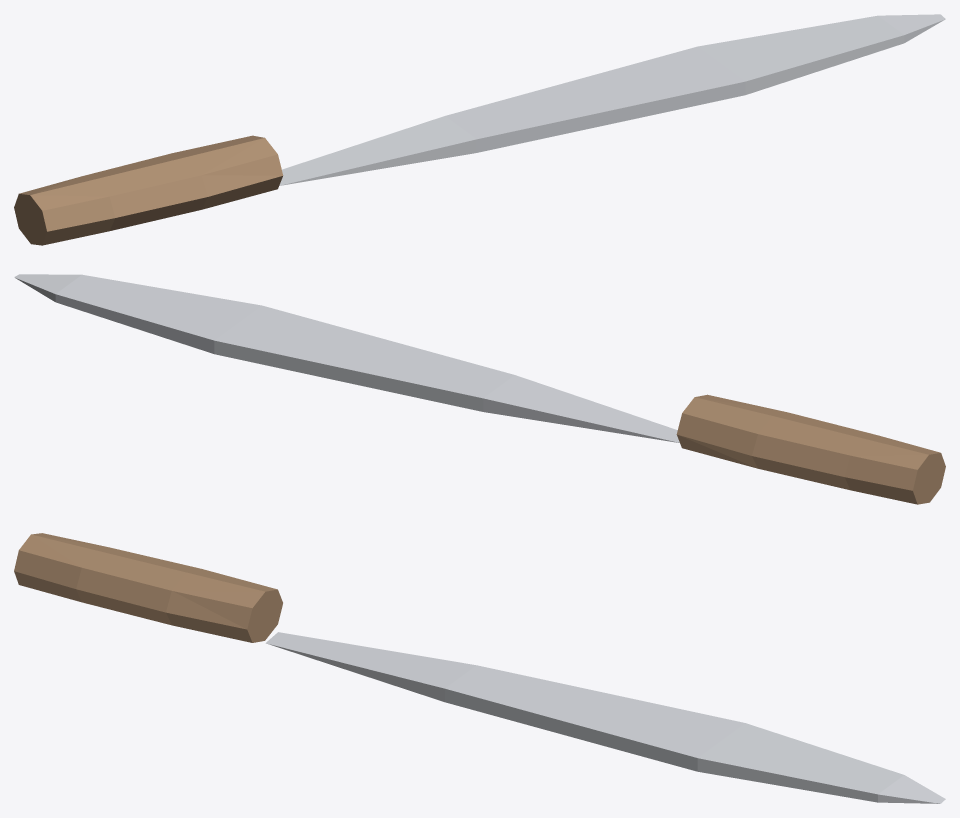
The model's file is 16-Crafting_machete.glb.
3 renders of one model, top to bottom at view 1: azimuth 30°, elevation 25°; view 2: azimuth 150°, elevation 25°; view 3: azimuth 330°, elevation 25°, orthographic.
Visible parts, largest first — view 1: SM_Machete_M_Machete_Acero, SM_Machete_M_Machete_Madera; view 2: SM_Machete_M_Machete_Acero, SM_Machete_M_Machete_Madera; view 3: SM_Machete_M_Machete_Acero, SM_Machete_M_Machete_Madera.
Part boxes in pixels (x1=…): SM_Machete_M_Machete_Acero: x1=279, y1=14, x2=945, y2=185; SM_Machete_M_Machete_Madera: x1=14, y1=135, x2=283, y2=245; SM_Machete_M_Machete_Acero: x1=14, y1=274, x2=679, y2=442; SM_Machete_M_Machete_Madera: x1=676, y1=394, x2=945, y2=504; SM_Machete_M_Machete_Acero: x1=265, y1=632, x2=945, y2=803; SM_Machete_M_Machete_Madera: x1=14, y1=533, x2=282, y2=642.
Bounding box in the file's own units: 0.7 × 0.0375 × 0.0636.
